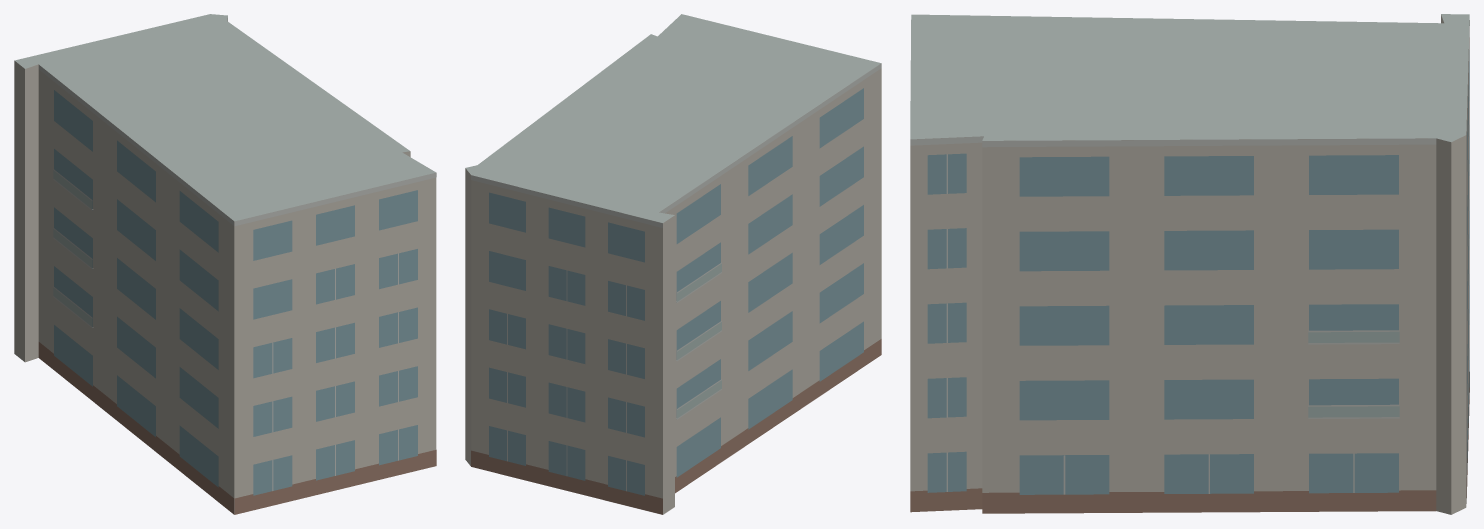
File: survey-upis-32914841.glb
3 renders of one model, left to right at view 1: azimuth 30°, elevation 25°; view 2: azimuth 150°, elevation 25°; view 3: azimuth 270°, elevation 25°, orthographic. The views are drawn at different scales.
Visible parts, largest first — view 1: survey-upis-32914841.tmp; view 2: survey-upis-32914841.tmp; view 3: survey-upis-32914841.tmp.
Part boxes in pixels (x1=…): survey-upis-32914841.tmp: x1=14, y1=14, x2=436, y2=514; survey-upis-32914841.tmp: x1=465, y1=14, x2=881, y2=514; survey-upis-32914841.tmp: x1=910, y1=14, x2=1469, y2=514.
Bounding box in the file's own units: 10.7 × 14.5 × 19.74.
